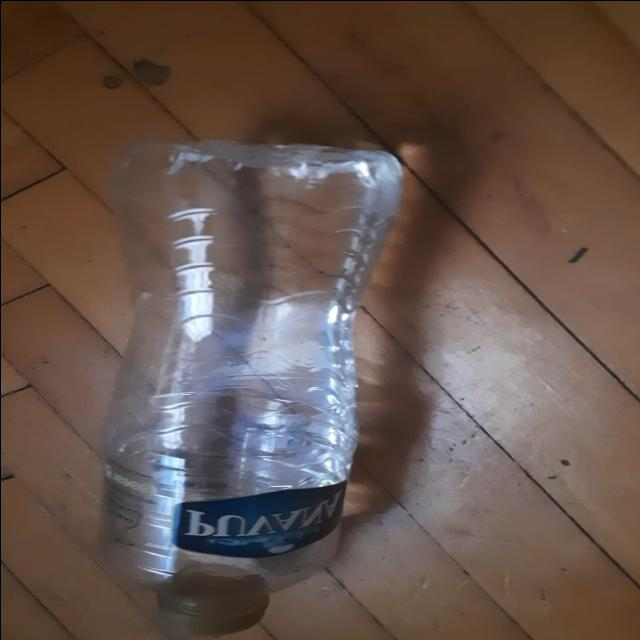Plastic: (93, 136, 403, 638)
